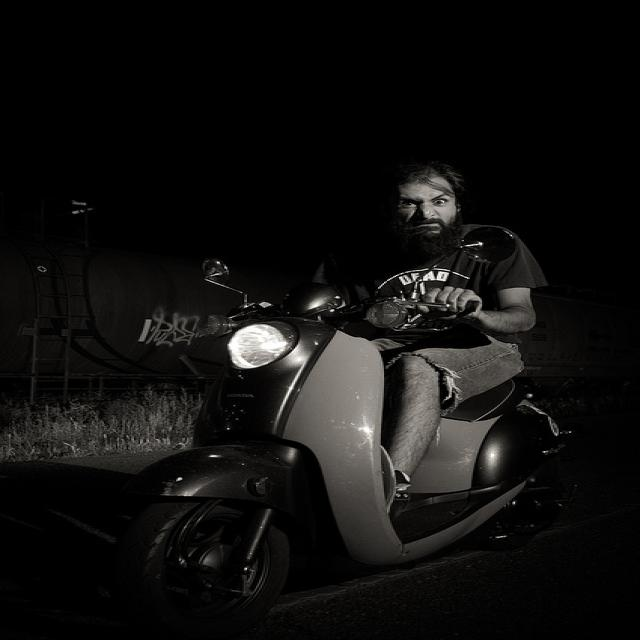Motorbike: (100, 255, 616, 640)
People: (292, 153, 592, 522)
